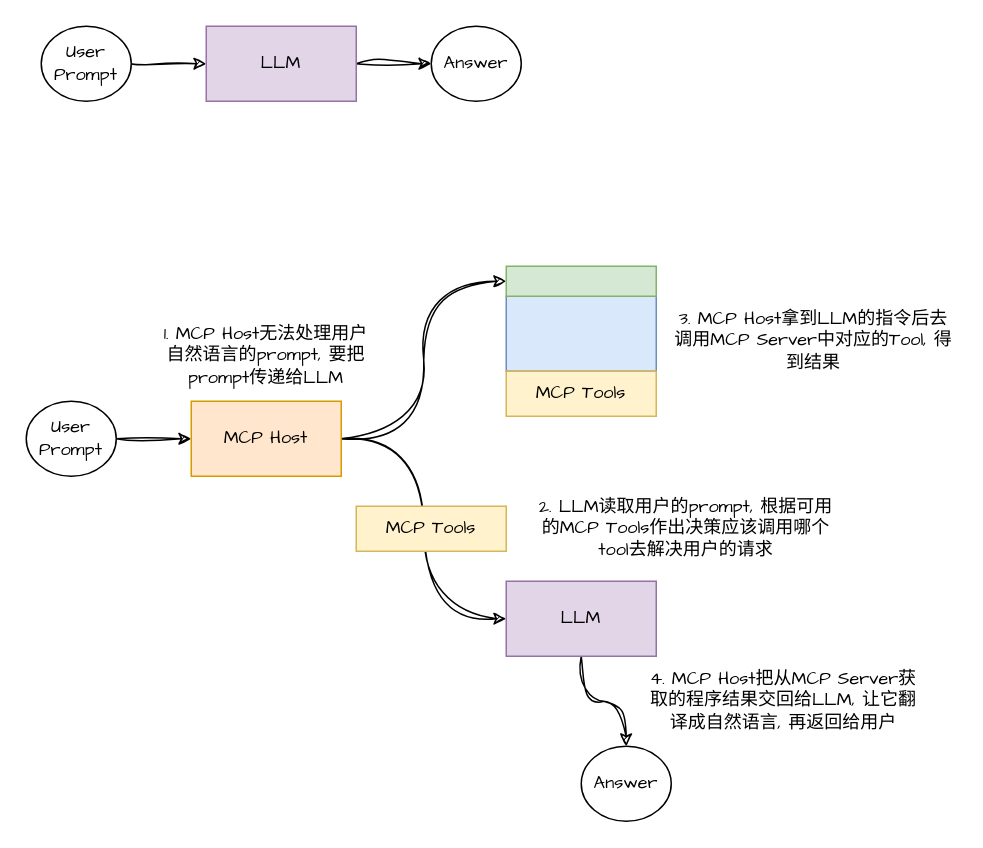
Some shapes in this 983 by 848 pixel diagram are drawn without their labels. Here are the shapes that lost their labels. From the top down, the centre of each, then its label:
(x=580, y=280): Metadata
(x=580, y=333): MCP Server
